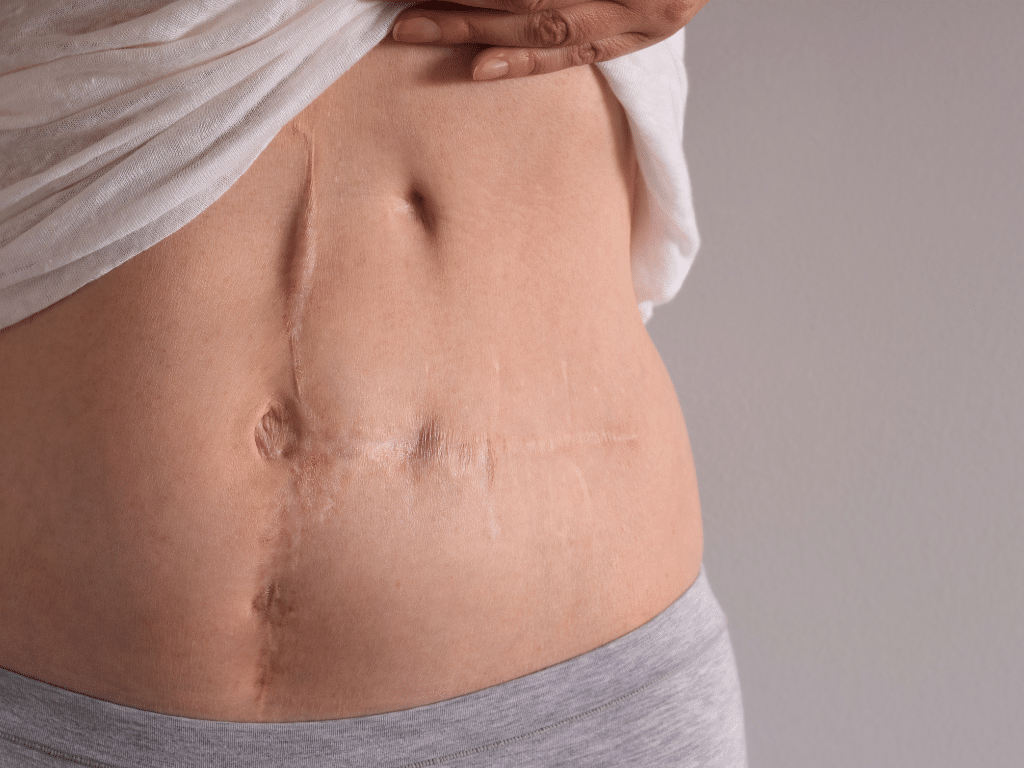scar: (240, 122, 643, 721)
